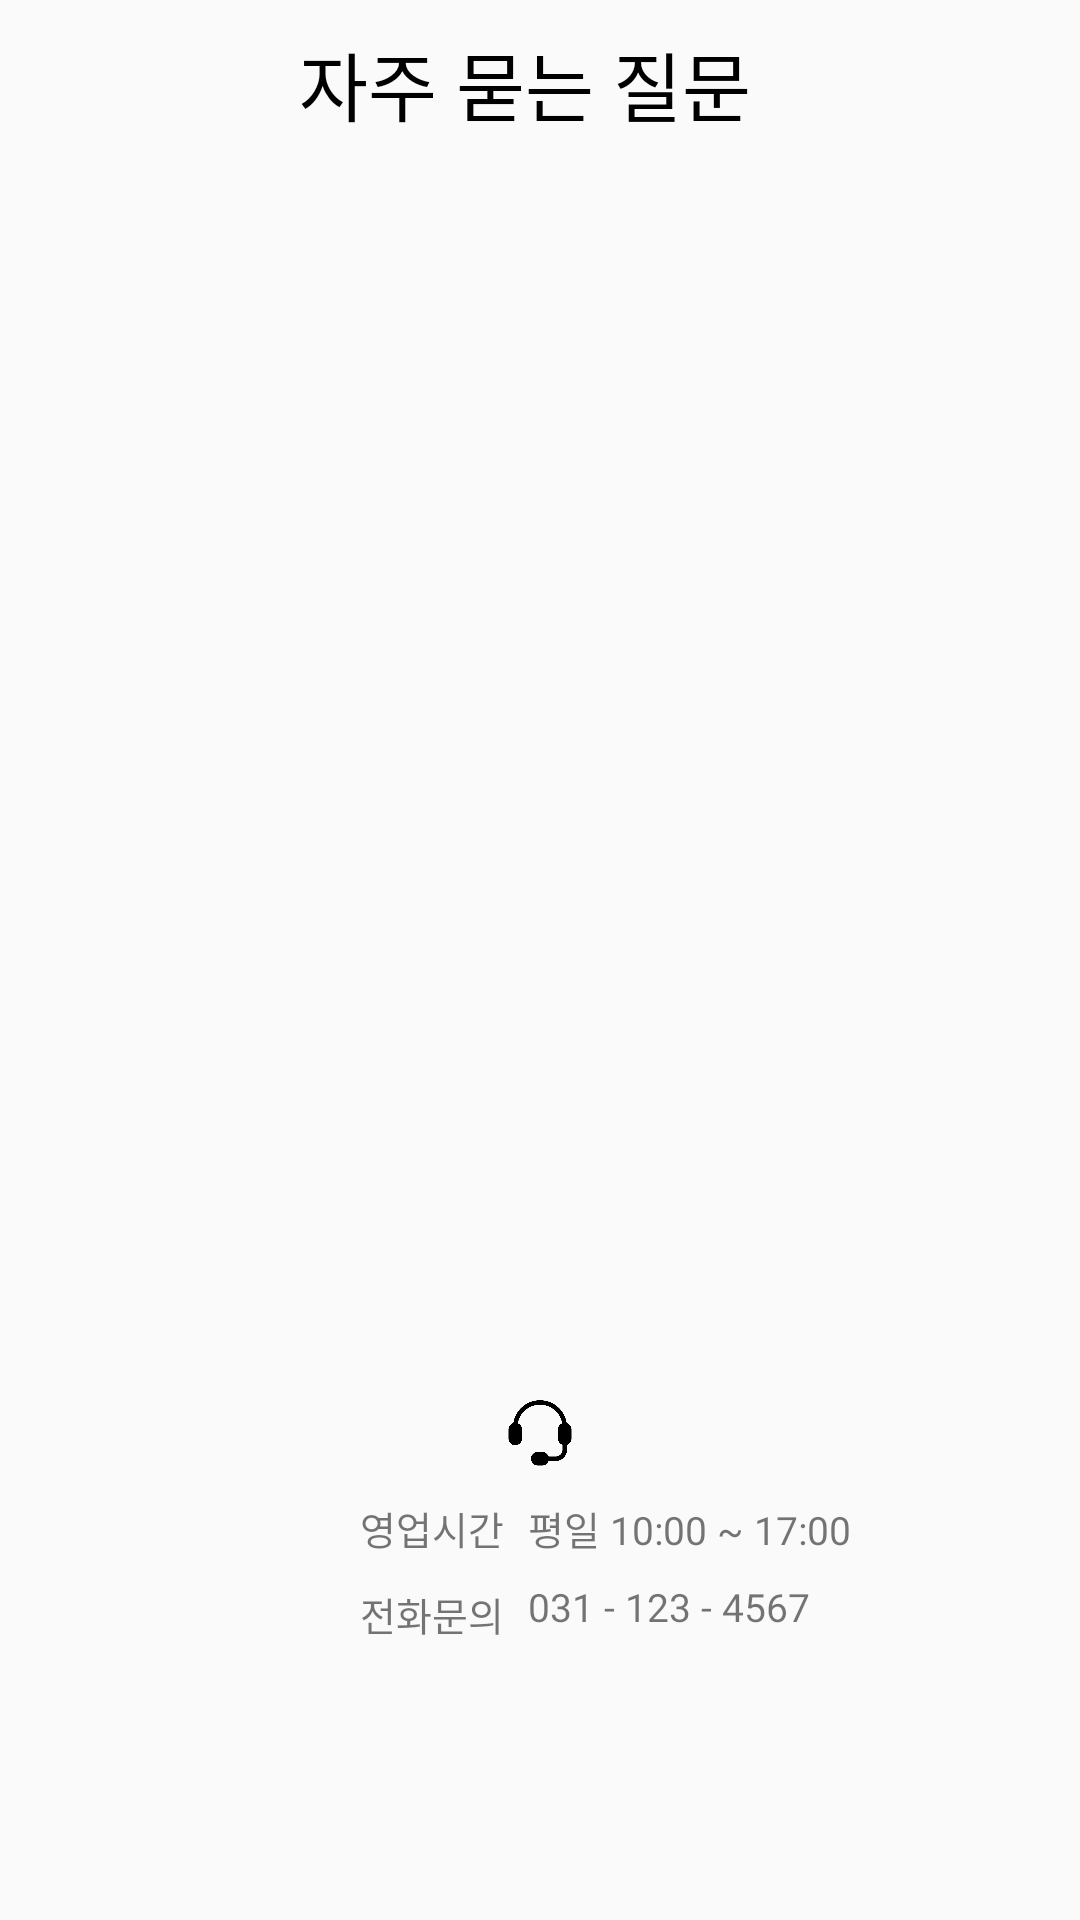

Icons on this 1080px x 1920px Android screen, each with its box as {"x1": x1, "y1": y1, "x2": x2, "y2": y2}:
call center: {"x1": 508, "y1": 1400, "x2": 572, "y2": 1466}
